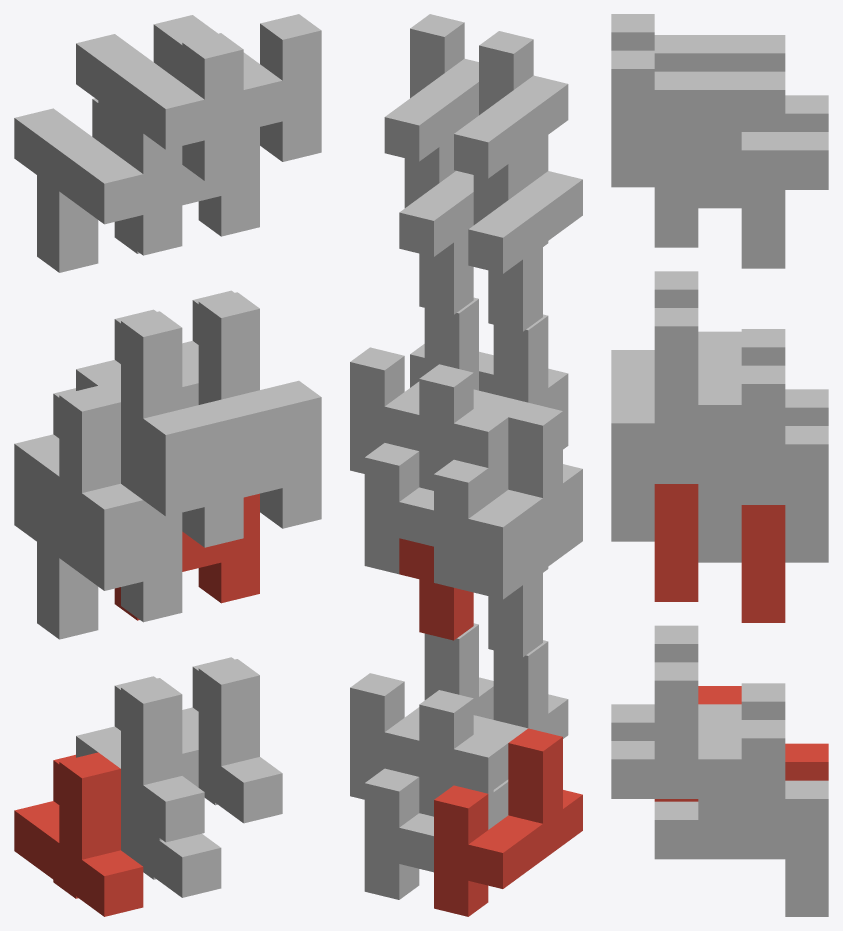
File: tiling.obj
The picture shows the model from 3 angles, left to right: view 1: azimuth 30°, elevation 25°; view 2: azimuth 150°, elevation 25°; view 3: azimuth 270°, elevation 25°; orthographic projection. The views are drawn at different scales.
Parts seen in each view (by area): view 1: copy_2_domain_3, copy_2_domain_4, copy_2_domain_1, copy_1_domain_1, copy_1_domain_3, copy_1_domain_2, copy_1_domain_4, copy_2_domain_8, copy_1_domain_6, copy_2_domain_2, copy_1_domain_8, copy_2_domain_6 (+3 smaller); view 2: copy_1_domain_1, copy_1_domain_3, copy_1_domain_4, copy_1_domain_2, copy_2_domain_4, copy_2_domain_3, copy_2_domain_8, copy_1_domain_6, copy_1_domain_8, copy_1_domain_5, copy_2_domain_7, copy_2_domain_1 (+4 smaller); view 3: copy_2_domain_8, copy_1_domain_6, copy_1_domain_8, copy_2_domain_7, copy_2_domain_6, copy_1_domain_5, copy_2_domain_5, copy_1_domain_7, copy_2_domain_4, copy_1_domain_2, copy_1_domain_4, copy_1_domain_1 (+3 smaller).
Part boxes in pixels (left/top/right/bottom): copy_2_domain_3: left=14, top=108, right=182, bottom=272; copy_2_domain_4: left=76, top=33, right=243, bottom=180; copy_2_domain_1: left=14, top=484, right=182, bottom=639; copy_1_domain_1: left=14, top=752, right=143, bottom=916; copy_1_domain_3: left=14, top=385, right=143, bottom=550; copy_1_domain_2: left=76, top=676, right=204, bottom=842; copy_1_domain_4: left=76, top=309, right=204, bottom=475; copy_2_domain_8: left=153, top=14, right=321, bottom=161; copy_1_domain_6: left=182, top=657, right=282, bottom=823; copy_2_domain_2: left=121, top=399, right=243, bottom=547; copy_1_domain_8: left=182, top=290, right=282, bottom=456; copy_2_domain_6: left=243, top=380, right=321, bottom=528; copy_1_domain_1: left=434, top=728, right=582, bottom=916; copy_1_domain_3: left=434, top=402, right=582, bottom=590; copy_1_domain_4: left=419, top=314, right=568, bottom=490; copy_1_domain_2: left=419, top=640, right=568, bottom=816; copy_2_domain_4: left=454, top=31, right=568, bottom=224; copy_2_domain_3: left=468, top=135, right=582, bottom=331; copy_2_domain_8: left=384, top=14, right=478, bottom=207; copy_1_domain_6: left=350, top=623, right=493, bottom=799; copy_1_domain_8: left=350, top=297, right=493, bottom=473; copy_1_domain_5: left=364, top=715, right=508, bottom=899; copy_2_domain_7: left=399, top=171, right=473, bottom=314; copy_2_domain_1: left=468, top=505, right=582, bottom=657; copy_2_domain_8: left=611, top=50, right=785, bottom=208; copy_1_domain_6: left=611, top=662, right=785, bottom=856; copy_1_domain_8: left=611, top=308, right=785, bottom=502; copy_2_domain_7: left=654, top=129, right=828, bottom=268; copy_2_domain_6: left=611, top=405, right=741, bottom=562; copy_1_domain_5: left=654, top=722, right=828, bottom=916; copy_2_domain_5: left=654, top=484, right=785, bottom=622; copy_1_domain_7: left=698, top=368, right=828, bottom=562; copy_2_domain_4: left=611, top=14, right=785, bottom=71; copy_1_domain_2: left=611, top=625, right=785, bottom=740; copy_1_domain_4: left=611, top=271, right=785, bottom=368; copy_1_domain_1: left=654, top=686, right=828, bottom=801.
Size of the model in its own units: 5 by 22 by 5.
